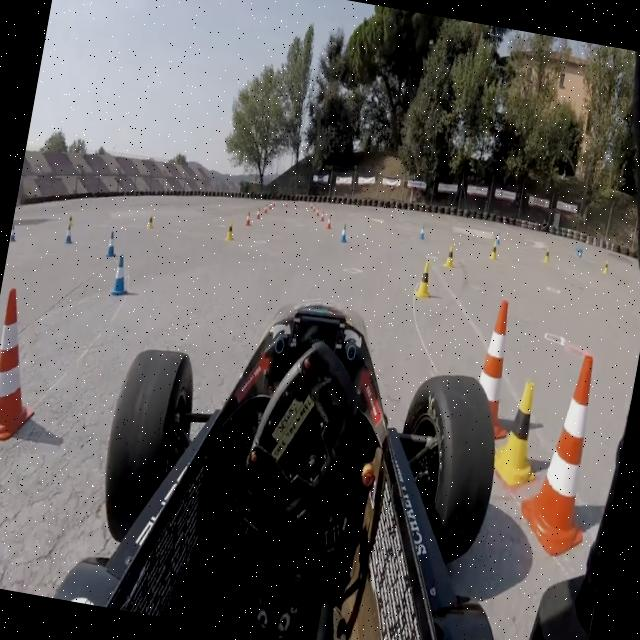blue_cone: (109, 254, 133, 298), (105, 232, 119, 258), (338, 222, 350, 245), (64, 225, 74, 246)
large_orange_cone: (514, 348, 614, 561), (460, 296, 530, 442), (0, 285, 55, 444)
yellow_cone: (487, 376, 550, 491), (414, 260, 435, 298), (442, 244, 458, 268), (224, 220, 236, 242), (488, 242, 499, 260)
